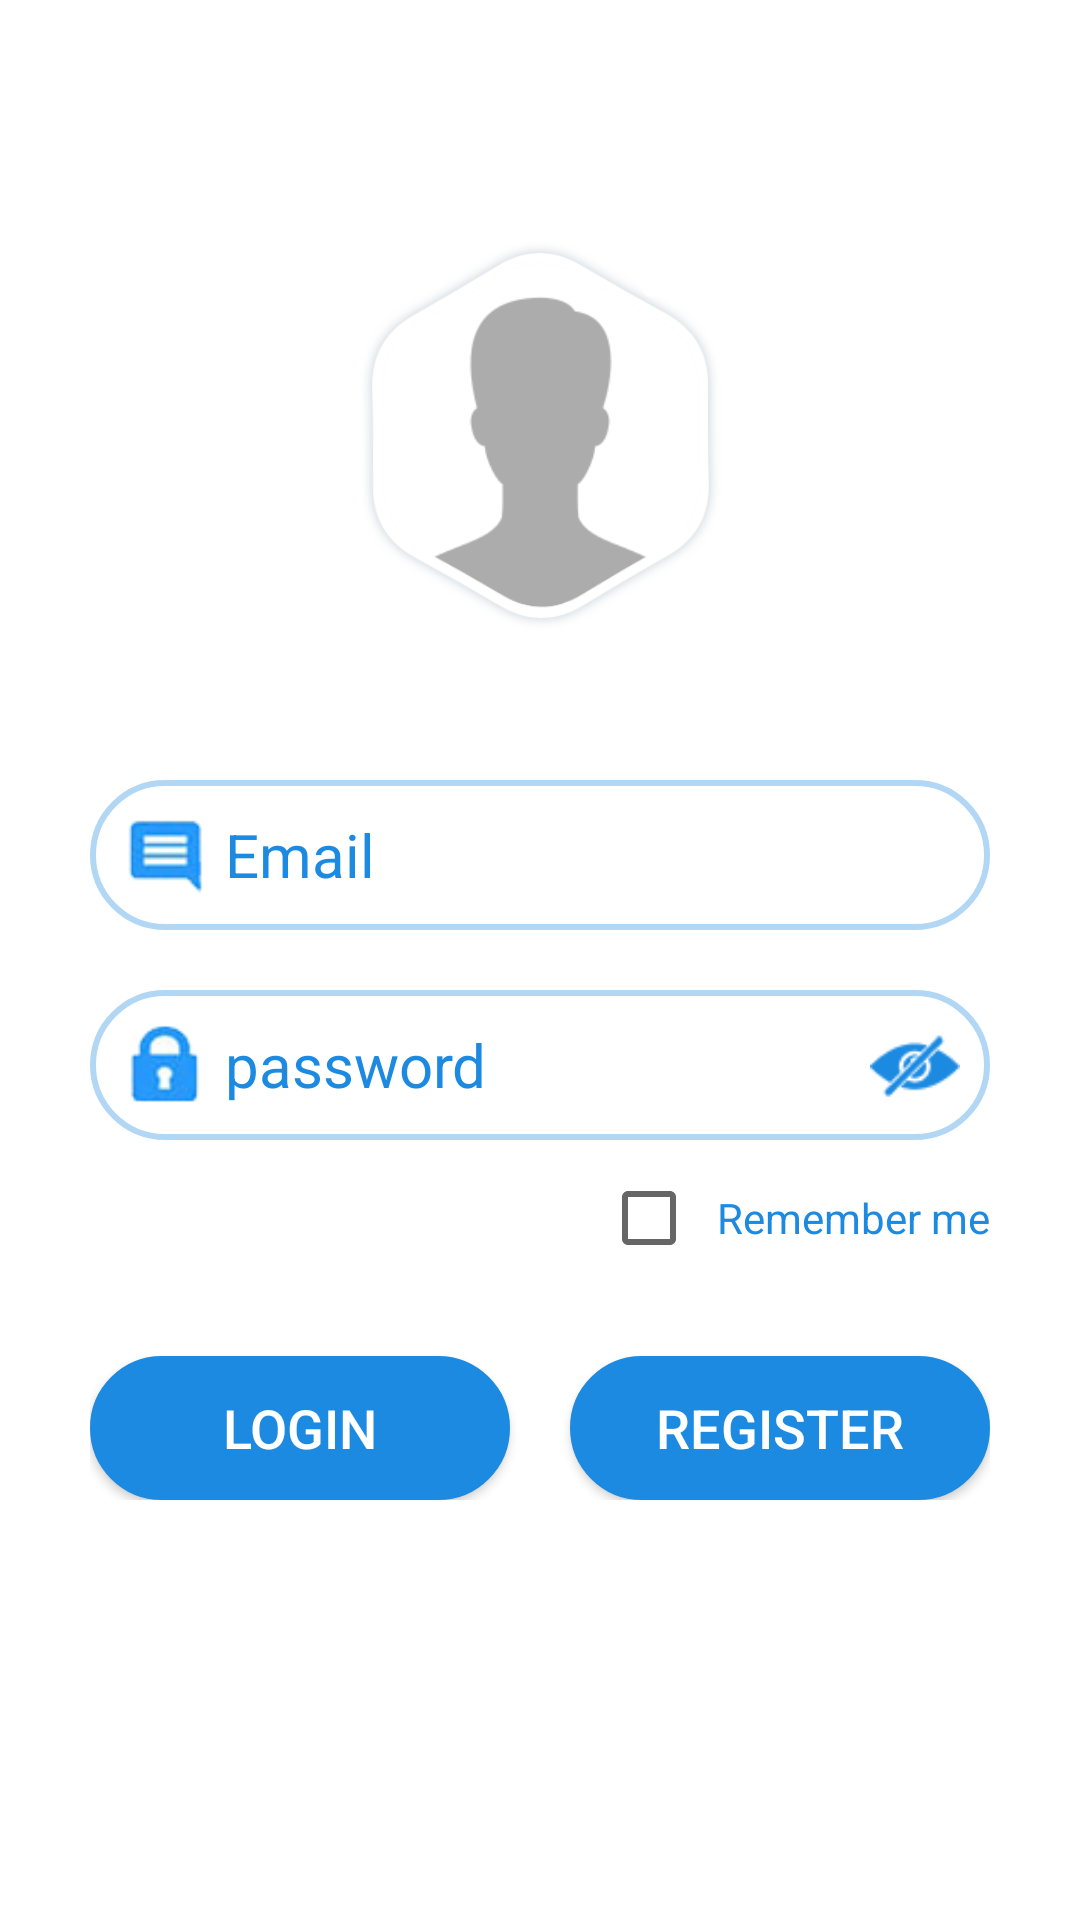

Screen size 1080px x 1920px. Icon name, then its center in pixels as (x,y):
eye hide: (915,1066)
